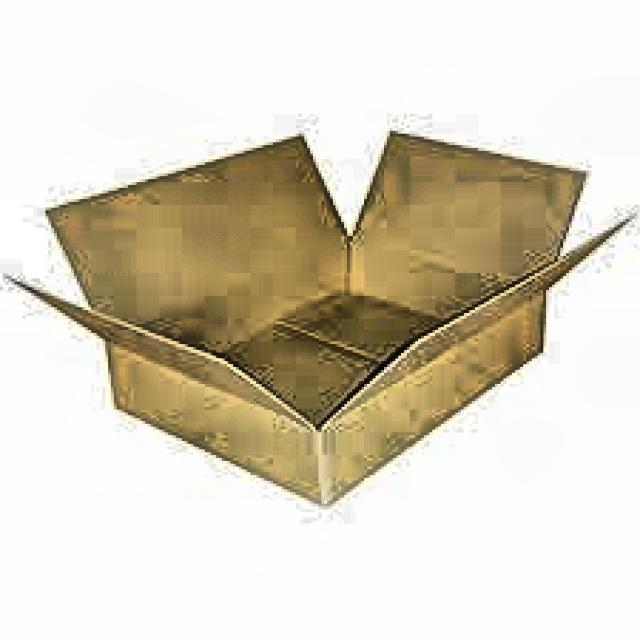cardboard: (2, 125, 638, 506)
